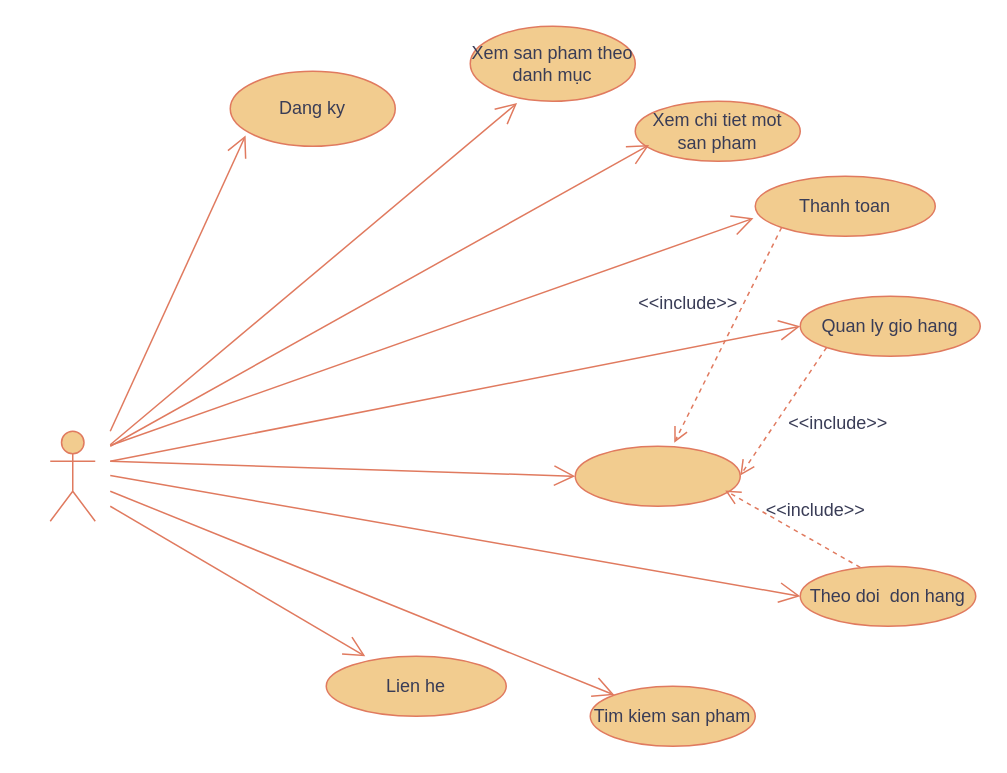
Image size: 1007x773. Some labels were removed from this diagram. The centre of each missing label's shape, as x and y in pixels:
Dang nhap: point (657, 475)
KhachHang: point (72, 475)
